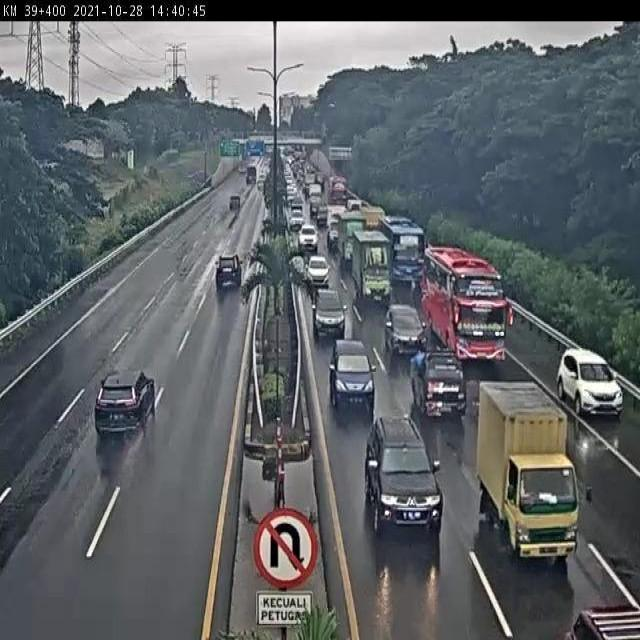big bus: (422, 244, 508, 367), (379, 220, 425, 288)
car: (364, 416, 445, 539), (559, 347, 625, 417), (411, 352, 468, 420), (329, 337, 376, 411), (382, 305, 425, 359), (313, 288, 348, 337), (213, 250, 243, 286), (304, 252, 331, 288)
mid truck: (94, 367, 158, 436), (351, 230, 392, 302)
truck-m-: (477, 380, 579, 563)
